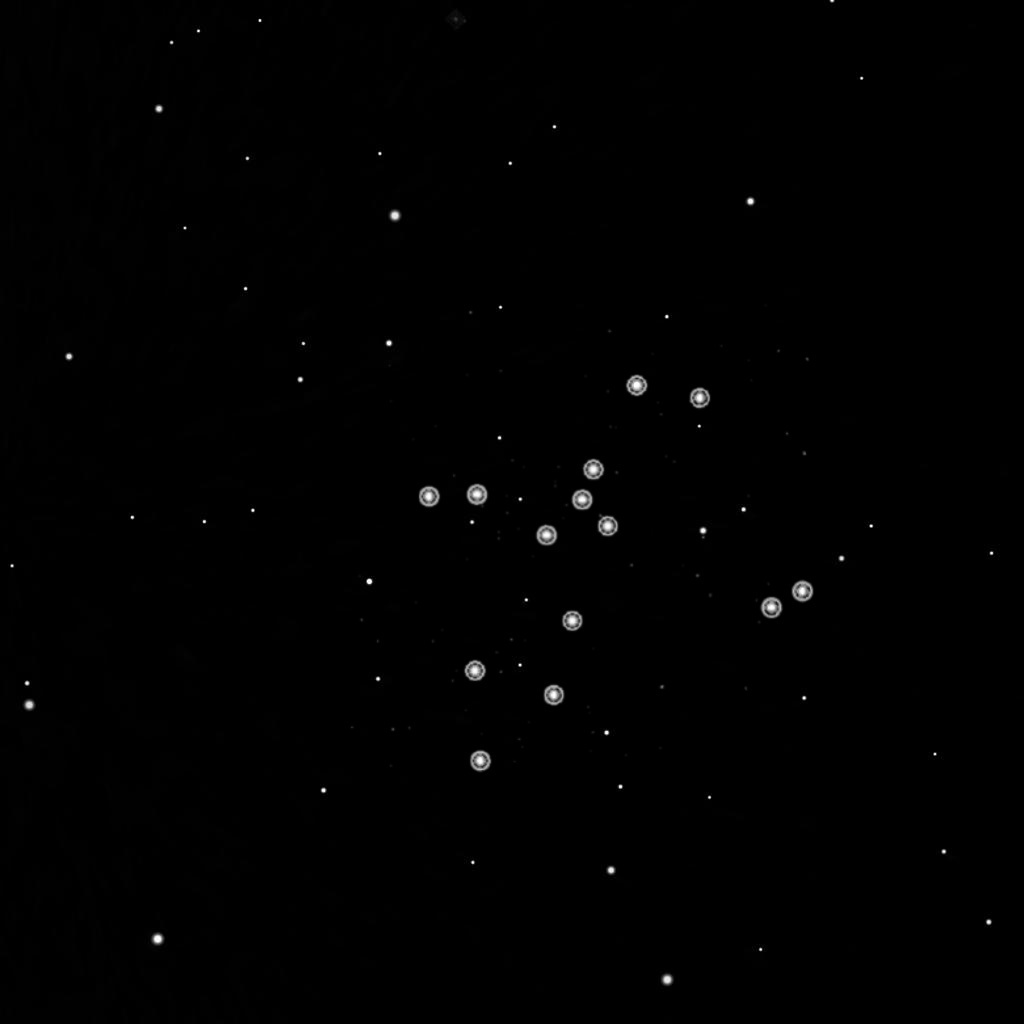canis_major: (528, 371, 716, 553)
